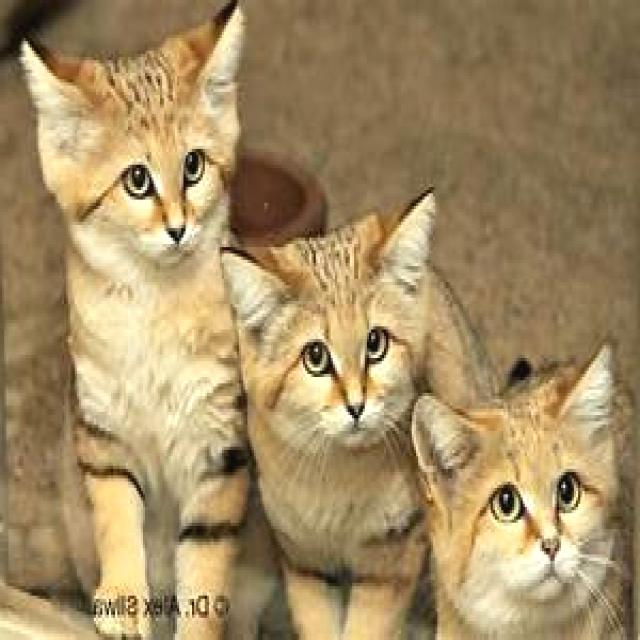KEDI: (25, 0, 249, 640), (223, 185, 474, 640), (414, 344, 639, 640)
